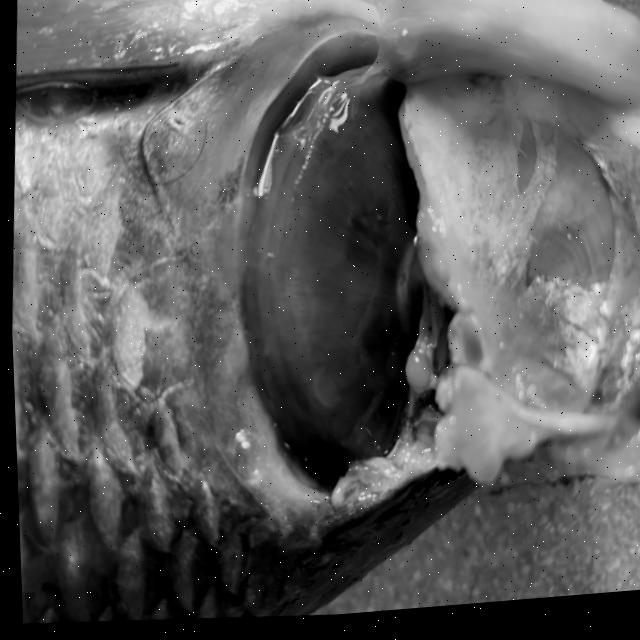Fresh: (174, 0, 506, 560)
